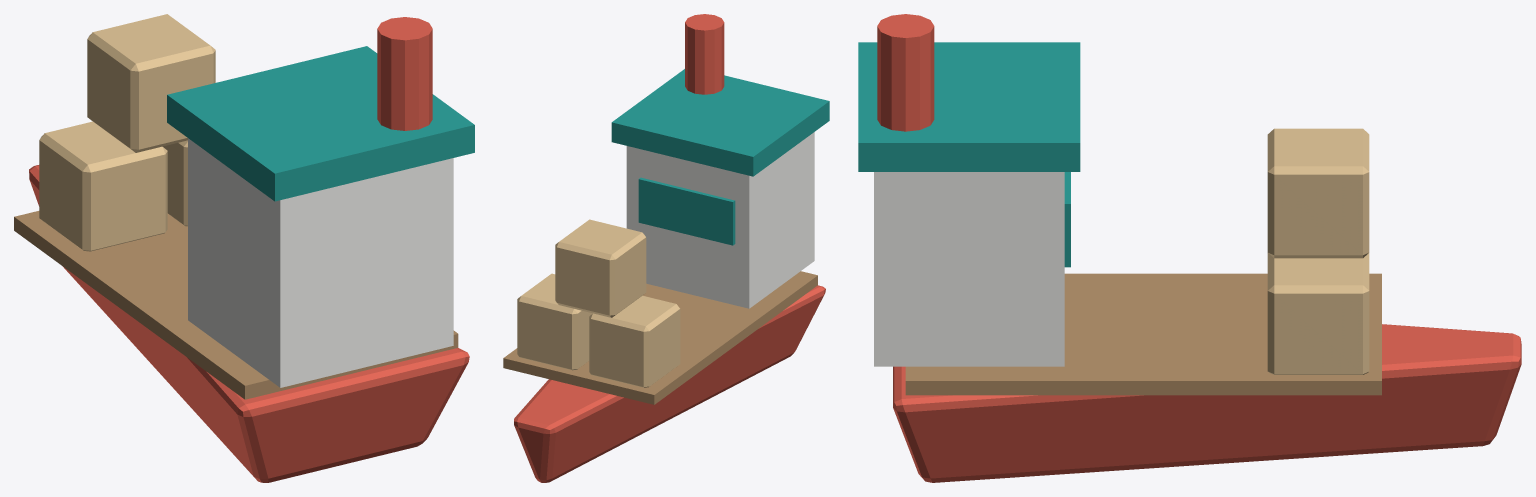
File: harbor-run-boat.glb
3 renders of one model, left to right at view 1: azimuth 30°, elevation 25°; view 2: azimuth 150°, elevation 25°; view 3: azimuth 270°, elevation 25°, orthographic. The views are drawn at different scales.
Visible parts, largest first — view 1: Cabin, Cabin Roof, Hull, Deck, Coffee Crate 1, Coffee Crate 3, Chimney, Coffee Crate 2; view 2: Cabin, Hull, Cabin Roof, Deck, Coffee Crate 3, Coffee Crate 1, Coffee Crate 2, Window, Chimney; view 3: Hull, Cabin, Deck, Cabin Roof, Coffee Crate 3, Coffee Crate 2, Chimney.
Boxes of the visible parts, x1,y1,x2,y2 form: Cabin: [188, 138, 453, 387]; Cabin Roof: [167, 46, 474, 201]; Hull: [29, 165, 469, 482]; Deck: [14, 211, 458, 399]; Coffee Crate 1: [39, 121, 167, 251]; Coffee Crate 3: [87, 14, 215, 152]; Chimney: [377, 17, 432, 130]; Coffee Crate 2: [162, 140, 187, 226]; Cabin: [626, 132, 814, 308]; Hull: [514, 285, 825, 482]; Cabin Roof: [611, 69, 829, 176]; Deck: [503, 271, 817, 404]; Coffee Crate 3: [555, 219, 646, 317]; Coffee Crate 1: [589, 295, 680, 387]; Coffee Crate 2: [517, 273, 592, 370]; Window: [638, 177, 735, 245]; Chimney: [685, 14, 724, 94]; Hull: [893, 324, 1521, 482]; Cabin: [874, 172, 1064, 366]; Deck: [905, 273, 1381, 395]; Cabin Roof: [858, 42, 1080, 171]; Coffee Crate 3: [1267, 128, 1369, 258]; Coffee Crate 2: [1267, 253, 1369, 374]; Chimney: [877, 14, 934, 131].
Size of the model in its own units: 0.8601 by 1.55 by 2.09.
